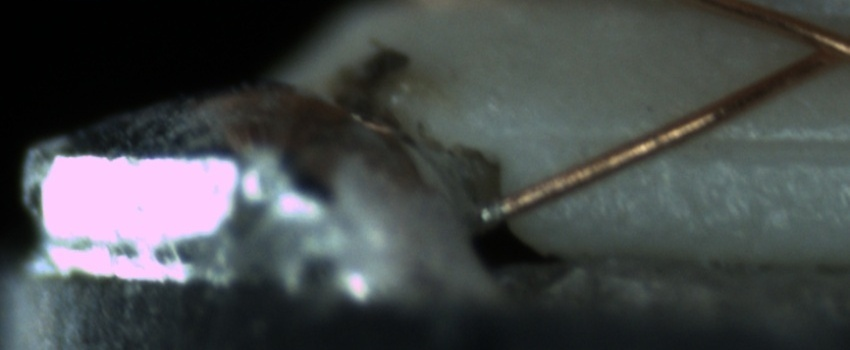CL: (790, 17, 849, 77)
DL: (555, 112, 848, 175)
TS: (476, 196, 508, 226)
